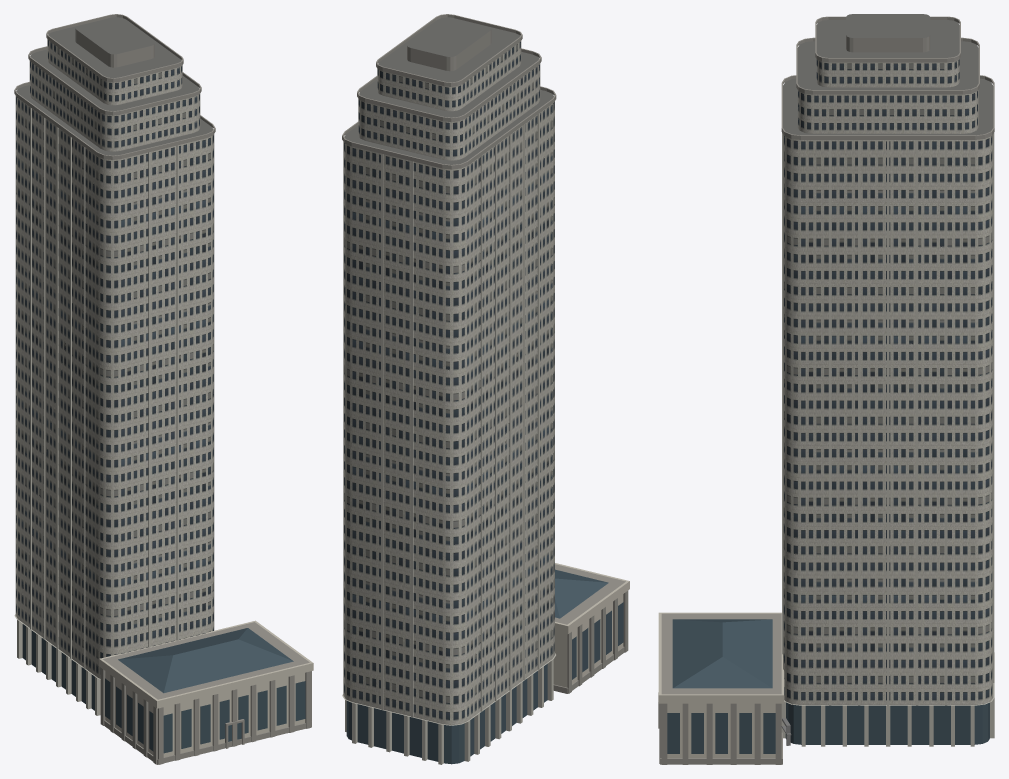
File: one_sansome.glb
3 renders of one model, left to right at view 1: azimuth 30°, elevation 25°; view 2: azimuth 150°, elevation 25°; view 3: azimuth 270°, elevation 25°, orthographic. The views are drawn at different scales.
Parts seen in each view (by area): view 1: one_sansome; view 2: one_sansome; view 3: one_sansome.
Part boxes in pixels (x1,y1,x2,y2): one_sansome: (14, 14, 313, 764); one_sansome: (342, 14, 629, 764); one_sansome: (658, 14, 994, 764).
Bounding box in the file's own units: 43.2 × 168 × 74.2.
2 materials, 2 textured.
